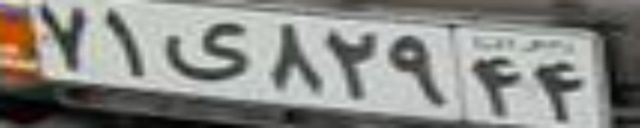1: (102, 6, 144, 77)
2: (325, 30, 378, 99)
4: (531, 60, 584, 122), (470, 55, 520, 116)
7: (37, 2, 91, 73)
8: (265, 22, 320, 94)
9: (385, 33, 444, 106)
ye: (163, 20, 252, 82)
